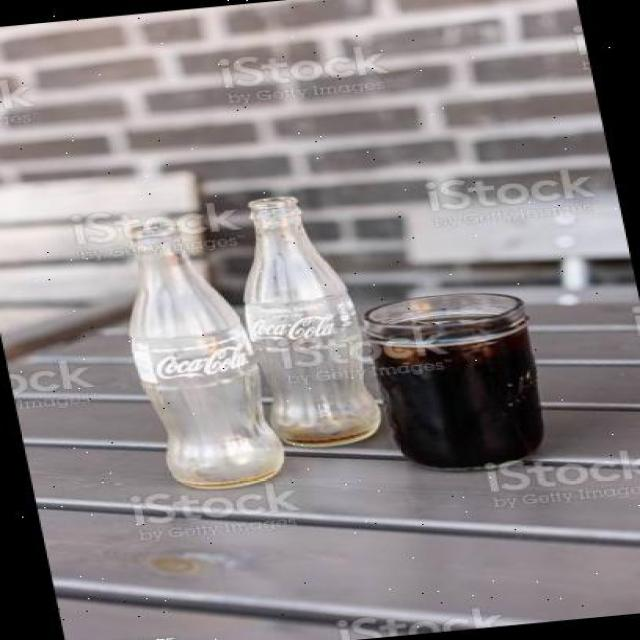coca-cola: (96, 206, 287, 498), (216, 186, 389, 463)
